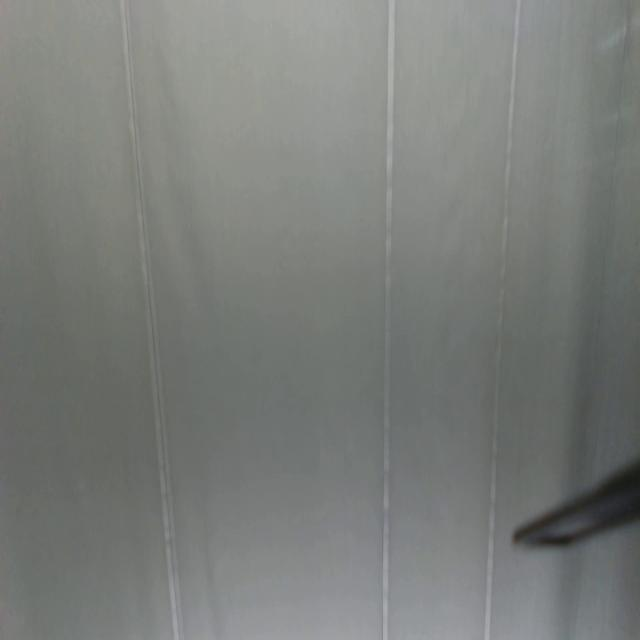crease: (121, 0, 183, 640), (482, 0, 523, 640), (380, 0, 396, 640)
